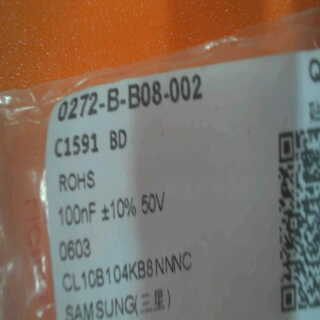100nF: (52, 201, 101, 230)
